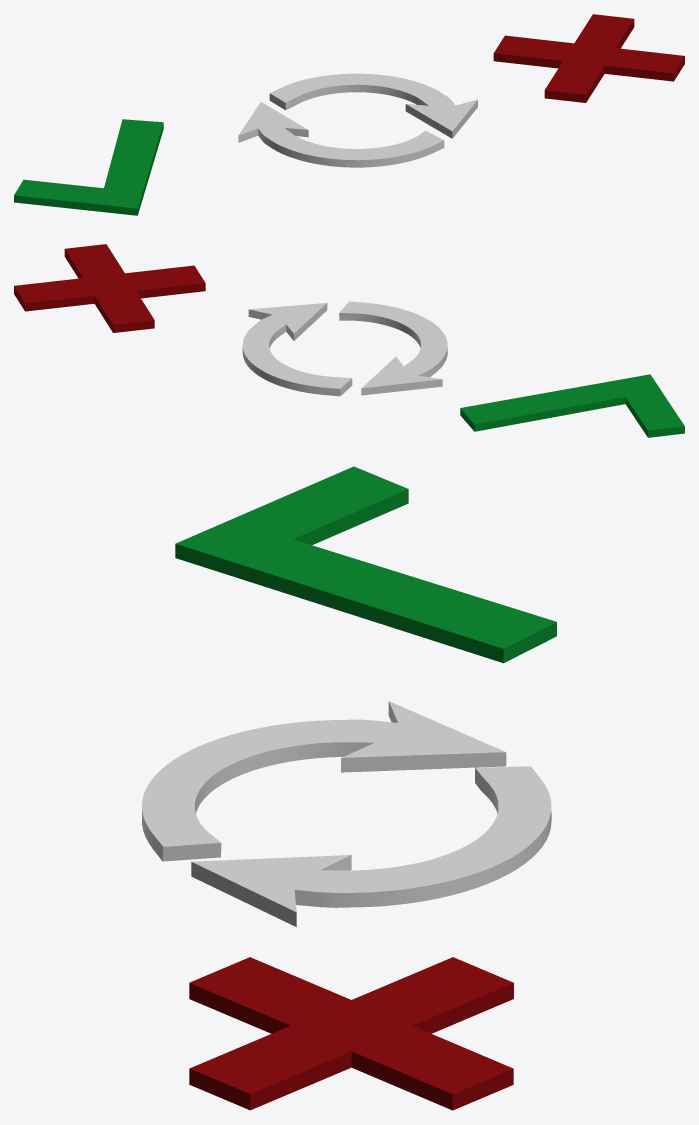
The model's file is Icons.fbx.
3 views of the same model, one above another, from view 1: azimuth 30°, elevation 25°; view 2: azimuth 150°, elevation 25°; view 3: azimuth 270°, elevation 25° (orthographic). The views are drawn at different scales.
Visible parts, largest first — view 1: Rotate, Cancel, Confirm; view 2: Rotate, Cancel, Confirm; view 3: Rotate, Cancel, Confirm.
Part boxes in pixels (bbox=[...]): Rotate: bbox=[238, 73, 477, 167]; Cancel: bbox=[493, 14, 684, 102]; Confirm: bbox=[14, 119, 163, 215]; Rotate: bbox=[242, 301, 447, 396]; Cancel: bbox=[14, 244, 205, 332]; Confirm: bbox=[460, 374, 684, 437]; Rotate: bbox=[142, 701, 551, 926]; Cancel: bbox=[189, 957, 513, 1110]; Confirm: bbox=[175, 466, 556, 663].
Bounding box in the file's own units: 6.61 × 0.1162 × 1.84.
